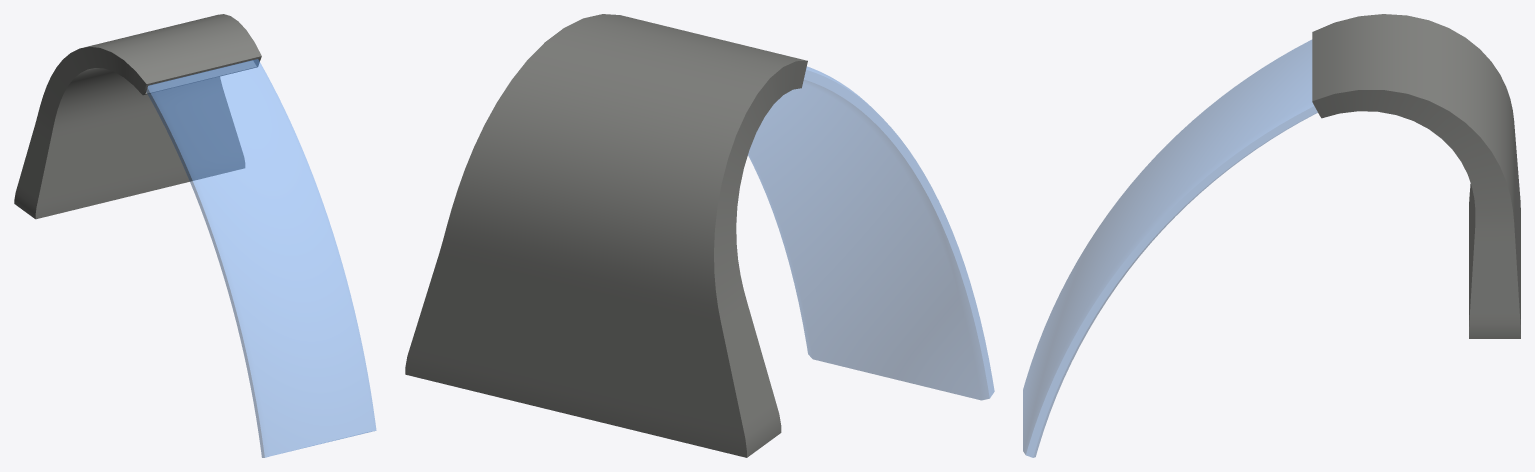
The model's file is Fountain.glb.
3 views of the same model, side by side, from view 1: azimuth 30°, elevation 25°; view 2: azimuth 150°, elevation 25°; view 3: azimuth 270°, elevation 25° (orthographic). The views are drawn at different scales.
Parts seen in each view (by area): view 1: Fountain; view 2: Fountain; view 3: Fountain.
Boxes of the visible parts, x1,y1,x2,y2 form: Fountain: [14, 14, 376, 457]; Fountain: [405, 14, 994, 457]; Fountain: [1023, 14, 1520, 457].
Size of the model in its own units: 1.1 by 1.52 by 1.83.
